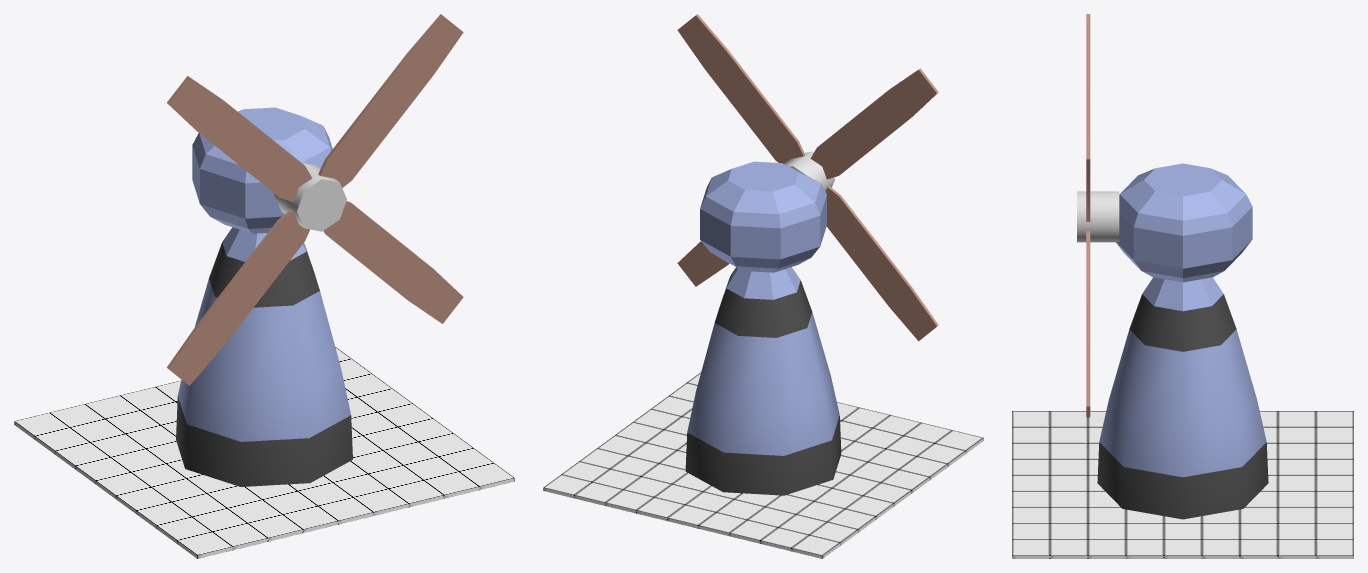
File: XG_Wind-Mill.glb
3 views of the same model, side by side, from view 1: azimuth 30°, elevation 25°; view 2: azimuth 150°, elevation 25°; view 3: azimuth 270°, elevation 25° (orthographic). The views are drawn at different scales.
Parts seen in each view (by area): view 1: ground_9_x_9_031, Cylinder006, Box797, Box795, Box796, Box794, Cylinder007; view 2: Cylinder006, ground_9_x_9_031, Box797, Box795, Box796, Box794, Cylinder007; view 3: Cylinder006, ground_9_x_9_031, Cylinder007, Box794, Box796, Box797.
Part boxes in pixels (bbox=[...]): ground_9_x_9_031: bbox=[14, 347, 514, 558]; Cylinder006: bbox=[176, 107, 352, 486]; Box797: bbox=[318, 14, 463, 187]; Box795: bbox=[167, 209, 309, 385]; Box796: bbox=[167, 76, 312, 201]; Box794: bbox=[323, 201, 463, 323]; Cylinder007: bbox=[274, 163, 346, 231]; Cylinder006: bbox=[685, 161, 841, 495]; ground_9_x_9_031: bbox=[543, 372, 983, 558]; Box797: bbox=[677, 14, 805, 163]; Box795: bbox=[825, 186, 938, 341]; Box796: bbox=[810, 68, 938, 179]; Box794: bbox=[677, 241, 729, 286]; Cylinder007: bbox=[784, 151, 834, 191]; Cylinder006: bbox=[1097, 163, 1268, 519]; ground_9_x_9_031: bbox=[1012, 411, 1353, 558]; Cylinder007: bbox=[1077, 191, 1119, 242]; Box794: bbox=[1086, 231, 1090, 417]; Box796: bbox=[1086, 14, 1090, 129]; Box797: bbox=[1086, 129, 1090, 221].
Size of the model in its own units: 9 by 12.06 by 9.
Materials: 4 (1 with a texture image).
